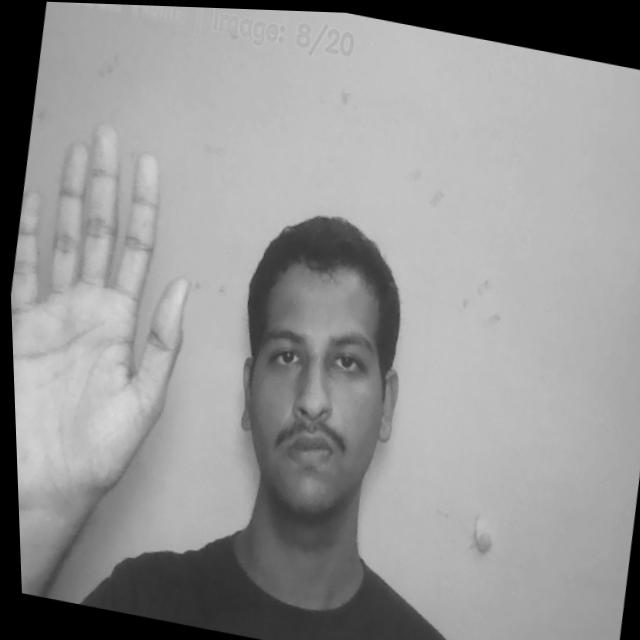Hello: (3, 111, 222, 532)
